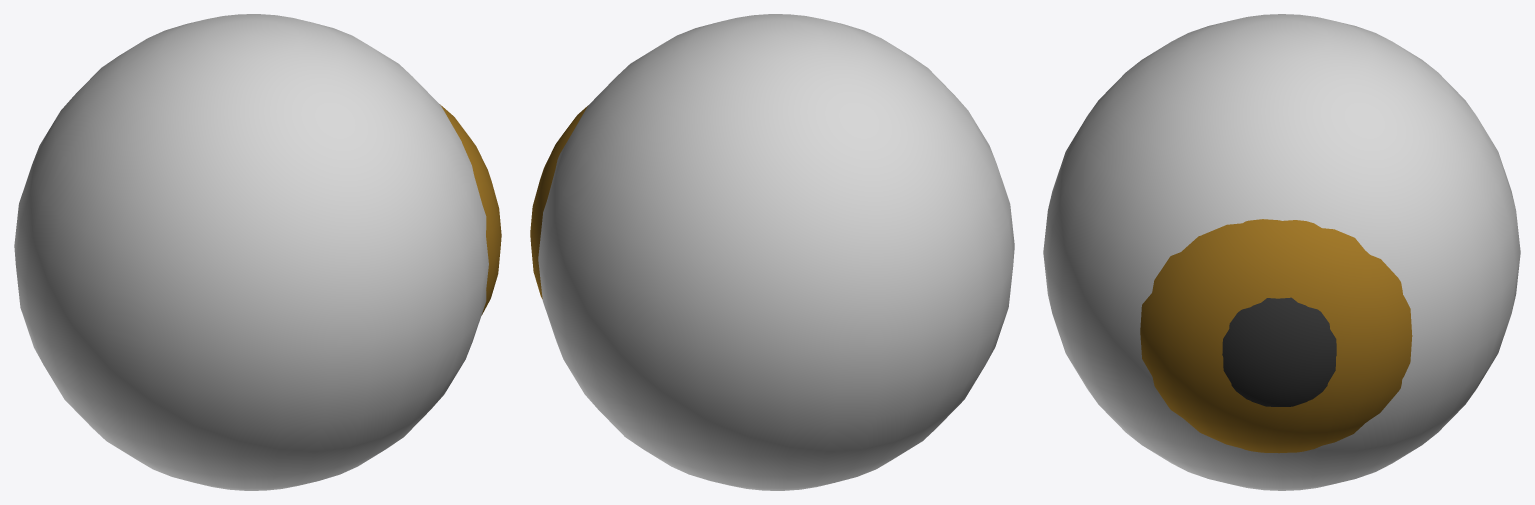
File: eyeball.dae
3 renders of one model, left to right at view 1: azimuth 30°, elevation 25°; view 2: azimuth 150°, elevation 25°; view 3: azimuth 270°, elevation 25°, orthographic.
Visible parts, largest first — view 1: Sphere, Sphere_001; view 2: Sphere, Sphere_001; view 3: Sphere, Sphere_001, Sphere_002.
Boxes of the visible parts, x1=… form: Sphere: x1=14, y1=14, x2=488, y2=490; Sphere_001: x1=440, y1=104, x2=501, y2=315; Sphere: x1=538, y1=14, x2=1014, y2=490; Sphere_001: x1=530, y1=105, x2=588, y2=299; Sphere: x1=1043, y1=14, x2=1520, y2=490; Sphere_001: x1=1140, y1=219, x2=1412, y2=453; Sphere_002: x1=1222, y1=297, x2=1336, y2=406.
Bounding box in the file's own units: 2.1 × 2 × 2.
